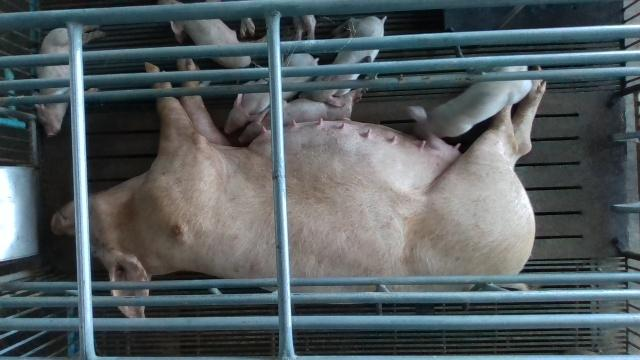piglet: (409, 65, 533, 152), (298, 13, 388, 108), (32, 23, 104, 137), (222, 53, 319, 137), (236, 88, 364, 145), (161, 0, 252, 69)
sow-sleep-lactate: (51, 58, 548, 319)
